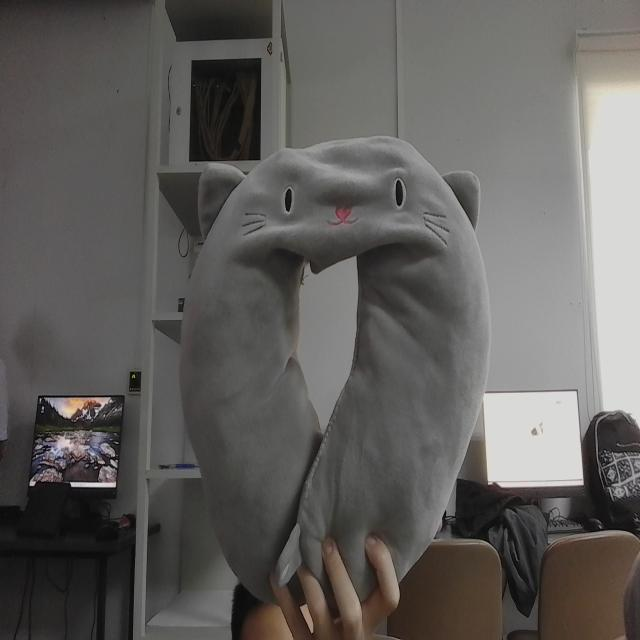pillow: (165, 124, 508, 610)
